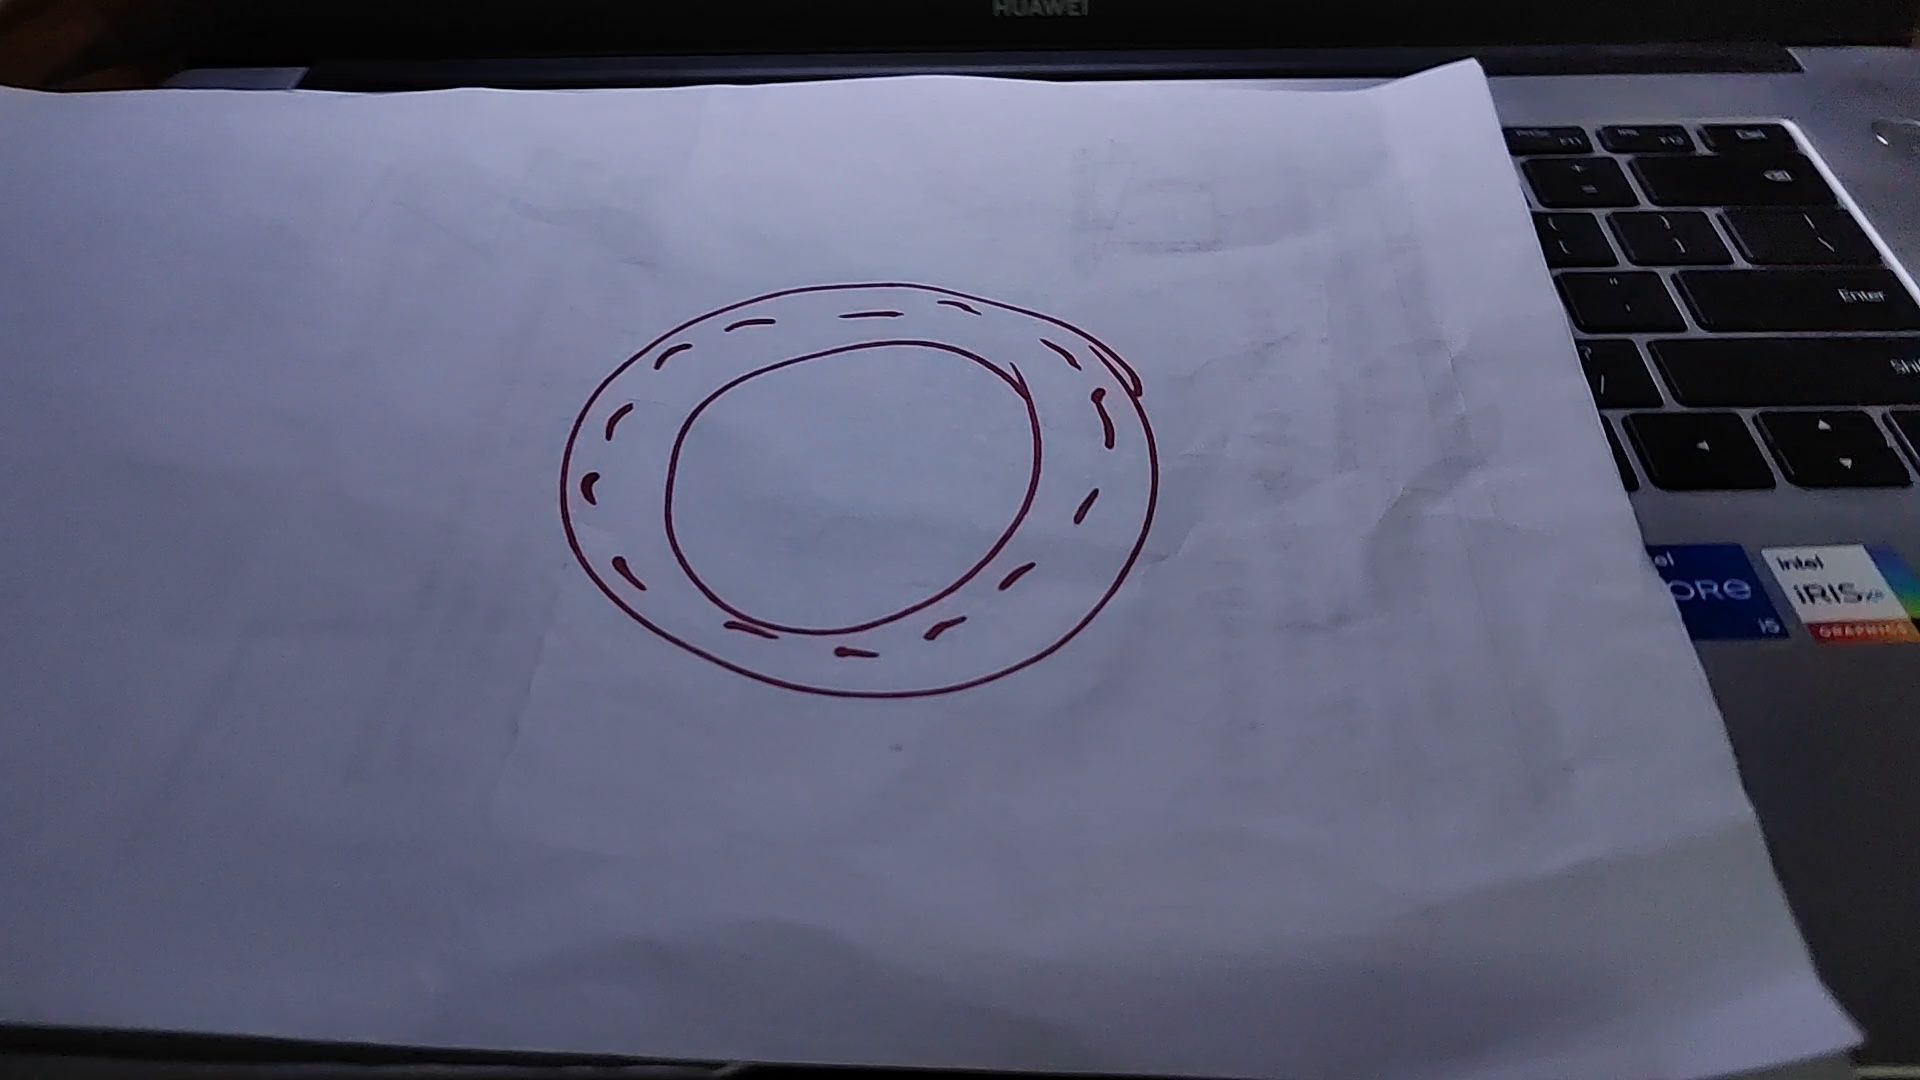circle: (556, 282, 1160, 698)
